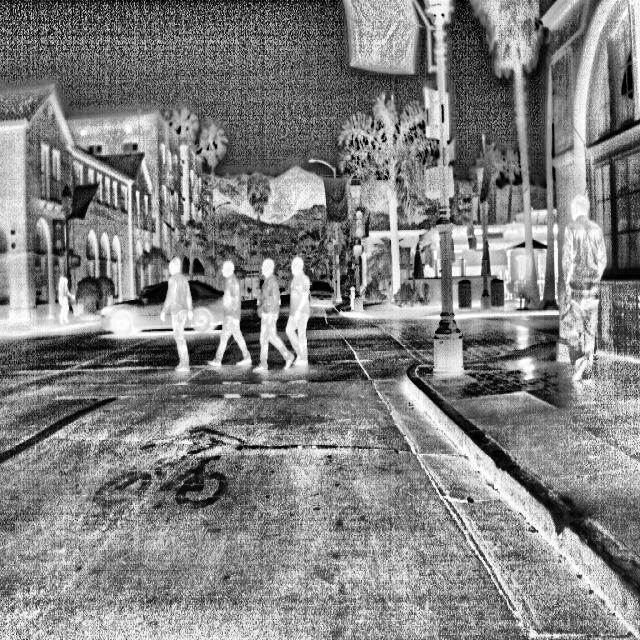car: (112, 281, 227, 336), (306, 276, 341, 316)
person and bycle: (558, 197, 614, 402), (158, 228, 199, 370), (210, 247, 250, 364), (282, 255, 318, 366), (255, 250, 285, 373), (50, 276, 82, 332)
traffic cone: (349, 198, 373, 256)
